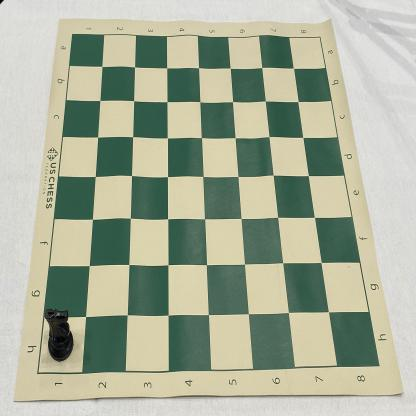black-knight: (45, 307, 74, 362)
